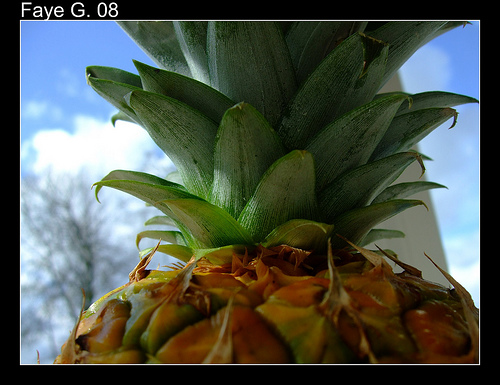pineapple: (34, 19, 479, 364)
